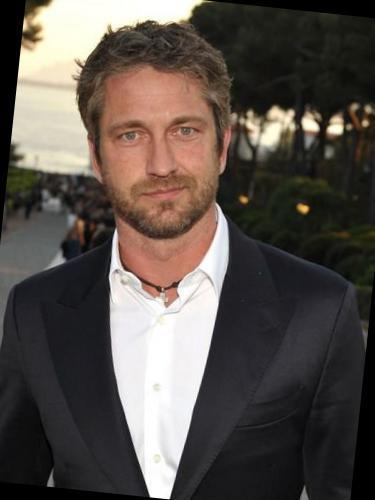Sober: (98, 64, 219, 223)
